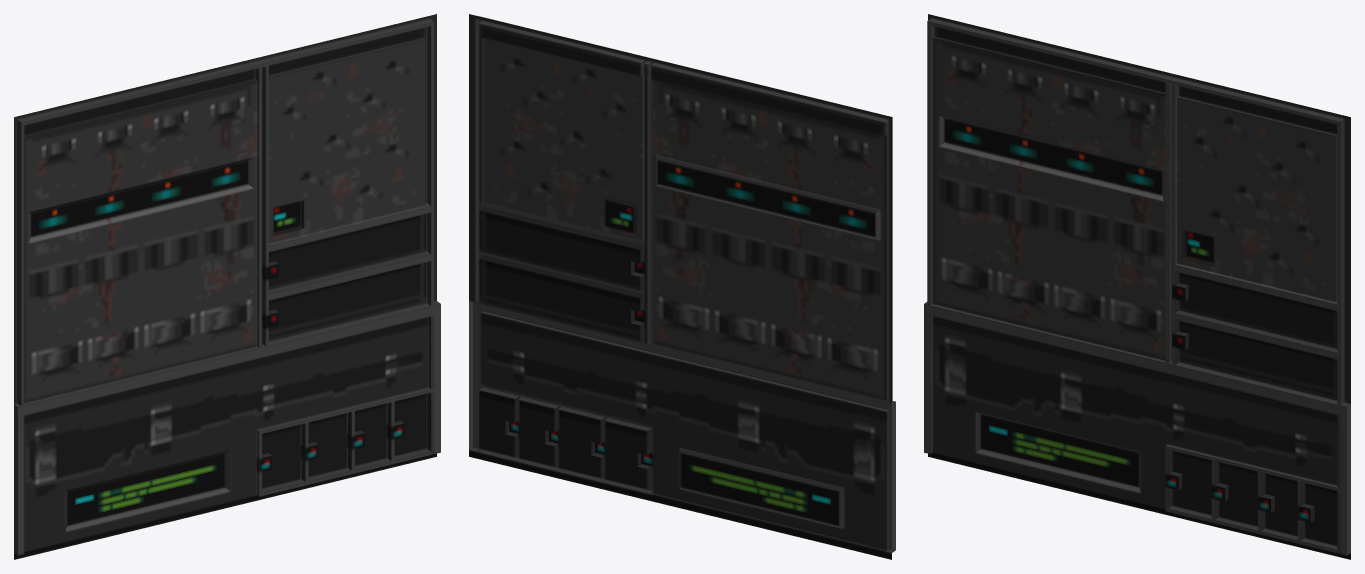
Rendered from exec1_2.fbx.
3 renders of one model, left to right at view 1: azimuth 30°, elevation 25°; view 2: azimuth 150°, elevation 25°; view 3: azimuth 330°, elevation 25°, orthographic.
Parts seen in each view (by area): view 1: exec1_2_mesh; view 2: exec1_2_mesh; view 3: exec1_2_mesh.
Part boxes in pixels (x1,y1,x2,y2): exec1_2_mesh: [14, 14, 440, 559]; exec1_2_mesh: [469, 14, 895, 559]; exec1_2_mesh: [924, 14, 1350, 559].
Bounding box in the file's own units: 256 × 256 × 4.
